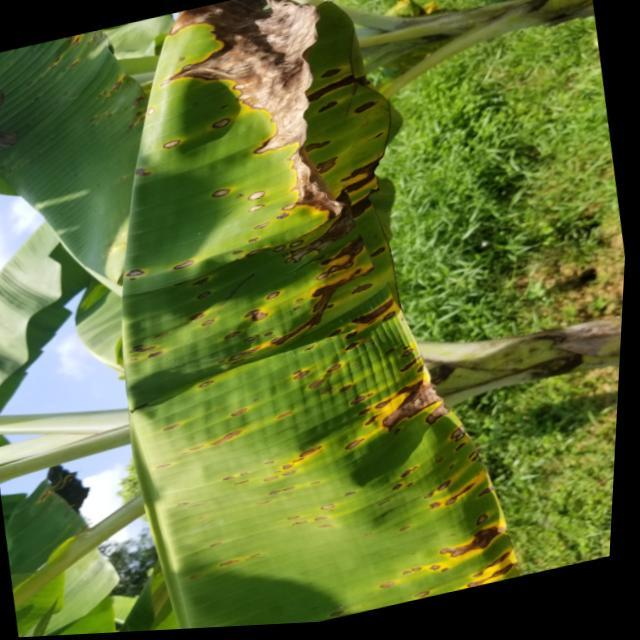Early_rust: (127, 0, 515, 611), (0, 19, 140, 214), (0, 444, 115, 530)
